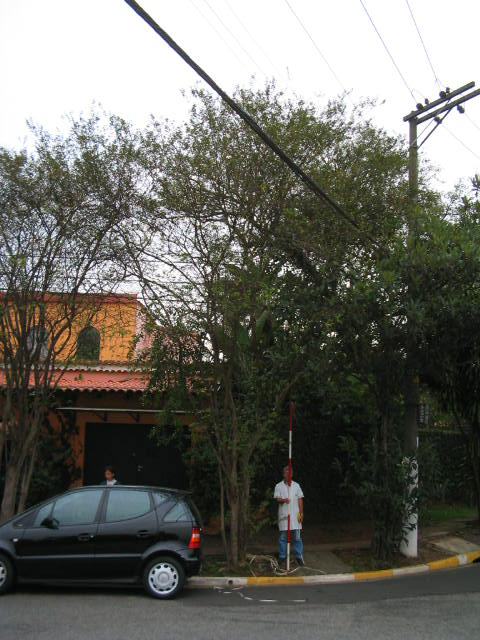crown: (130, 79, 442, 401), (3, 101, 149, 343)
stem: (2, 460, 38, 579), (217, 473, 260, 572)
stick: (278, 401, 299, 574)
tree: (128, 77, 444, 573), (1, 100, 152, 583)
